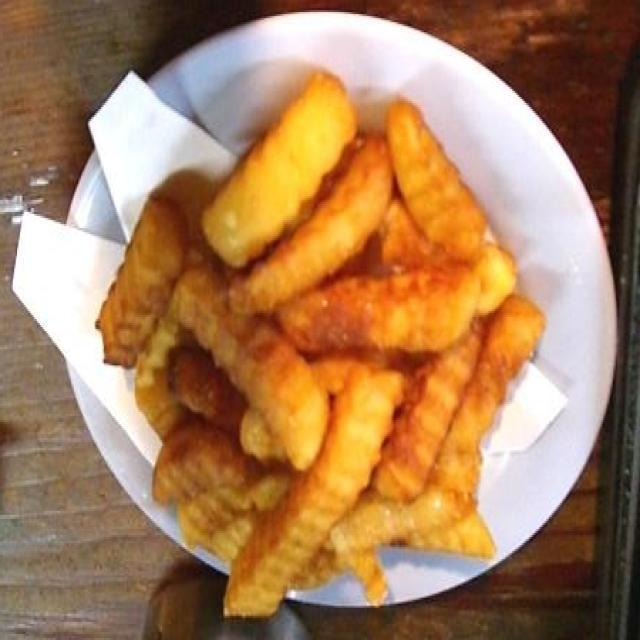French Fries: (111, 132, 534, 620)
